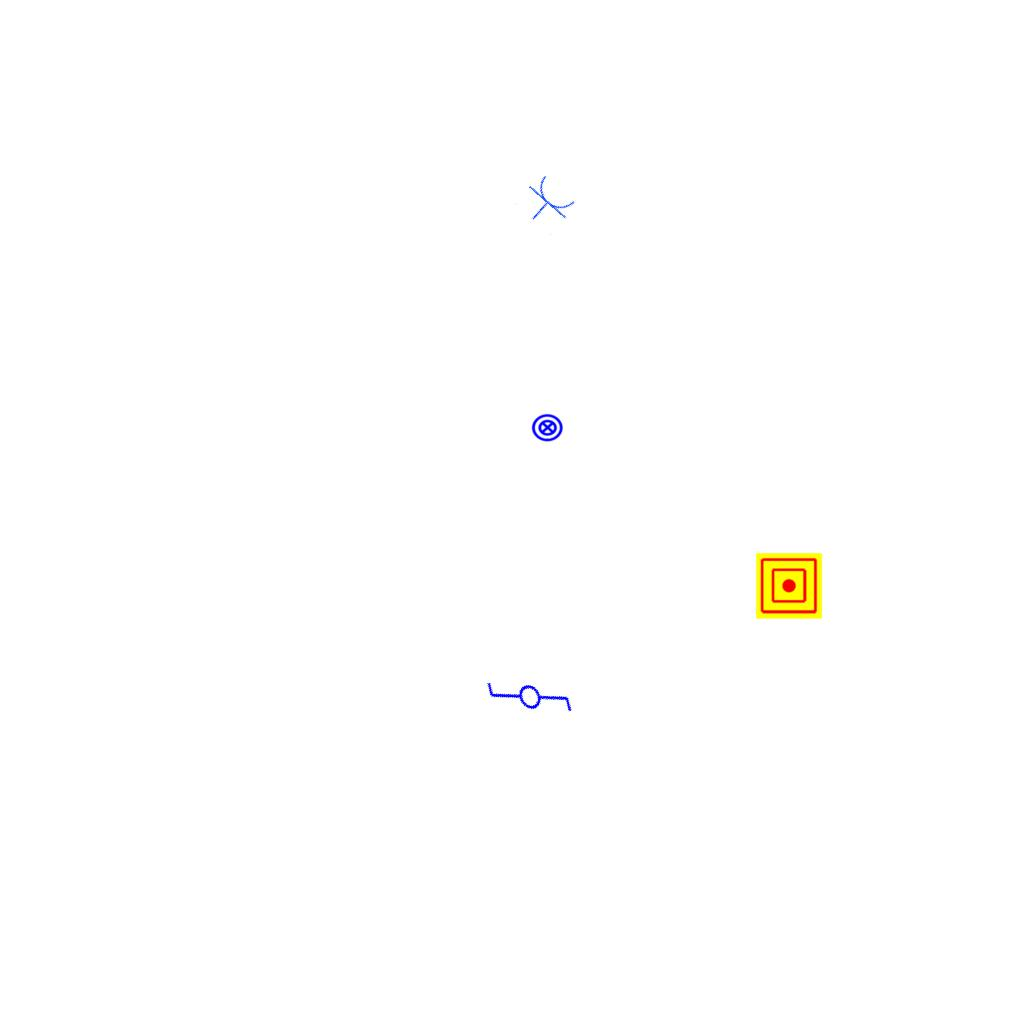NAM-Nichtautomatischer_Melder: (756, 553, 822, 619)
Schukosteckdose_einfach: (514, 170, 580, 237)
Taster_beleuchtet: (531, 411, 564, 444)
Wechselschalter: (480, 649, 582, 753)
